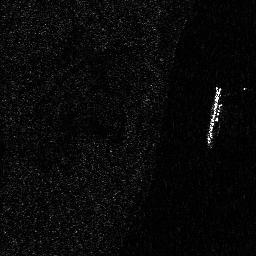ship: (206, 85, 221, 146)
